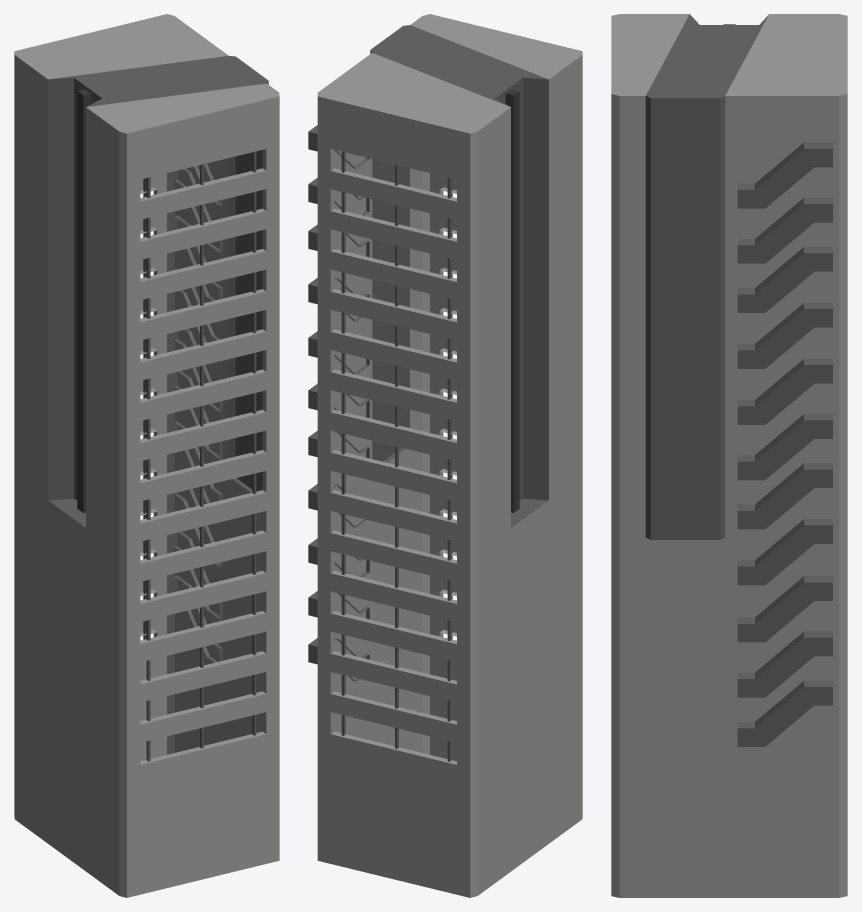
Rendered from building_B.FBX.
3 views of the same model, side by side, from view 1: azimuth 30°, elevation 25°; view 2: azimuth 150°, elevation 25°; view 3: azimuth 270°, elevation 25° (orthographic). The views are drawn at different scales.
Visible parts, largest first — view 1: factory_building_B; view 2: factory_building_B; view 3: factory_building_B.
Boxes of the visible parts, x1,y1,x2,y2 form: factory_building_B: (14,14,279,897); factory_building_B: (308,14,582,897); factory_building_B: (611,14,847,897).
Bounding box in the file's own units: 541 × 2291 × 611.
